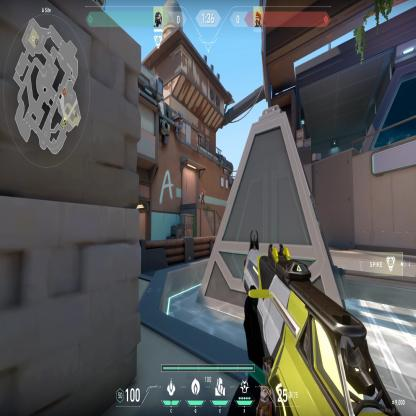enemy: (200, 186, 205, 205)
